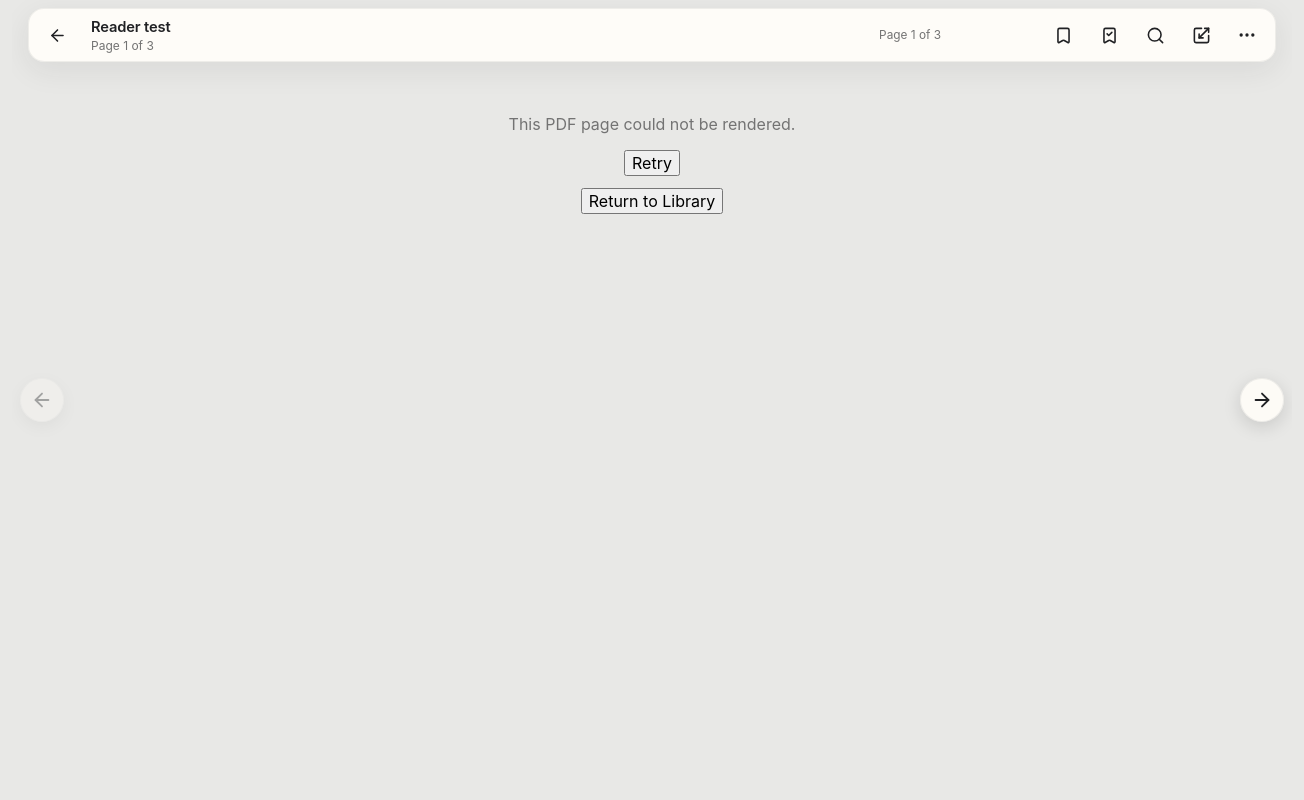
Test: PdfDocumentReader › keeps scanned PDFs in Original Layout and disables OCR Reading View with the user-facing explanation
The width and height of the screenshot is (1304, 800).
Click the button named "More reader options".
click(1247, 35)  # box 1225,13 -> 1269,57
(page scrolled)
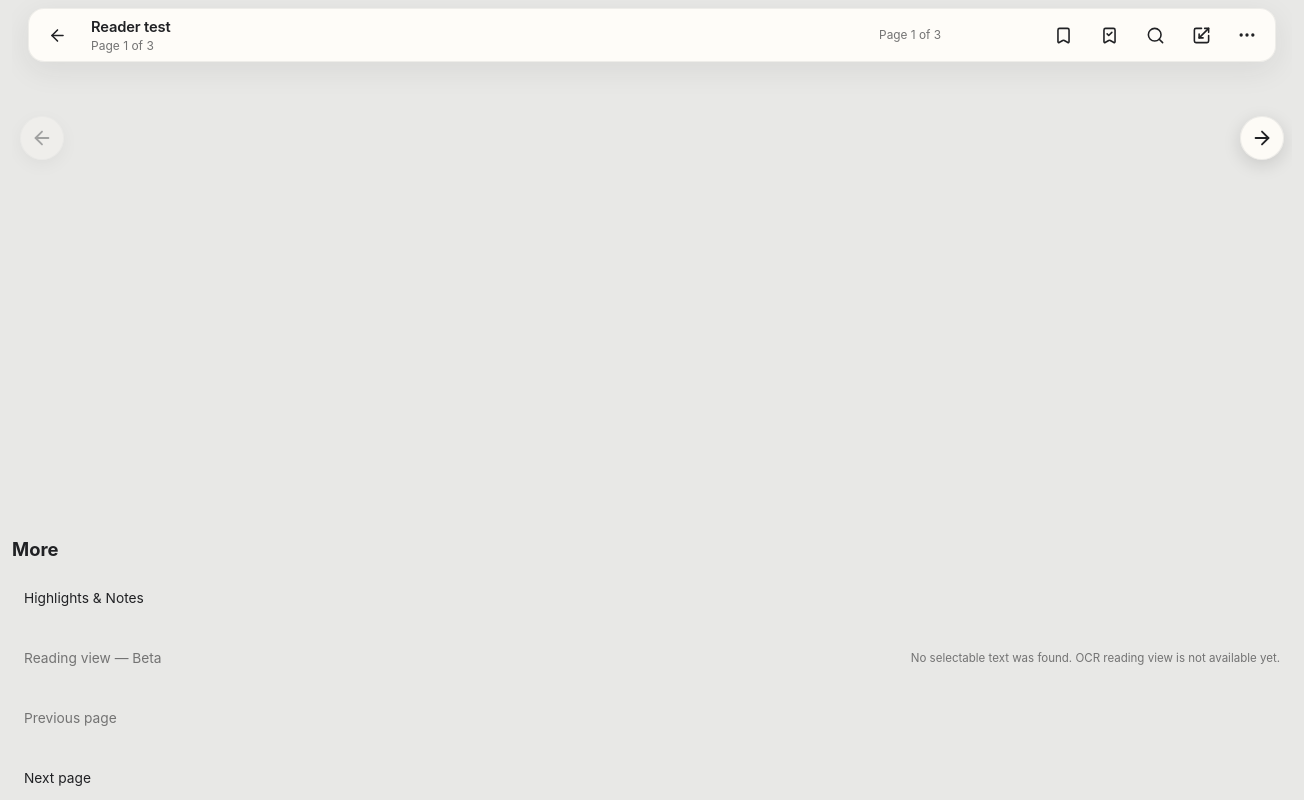
Expected: the button that starts with "Reading view — Beta" is disabled, 12,636 -> 1292,680
Expected: the text "No selectable text was found. OCR reading view is not available yet." is shown, 911,651 -> 1280,665
